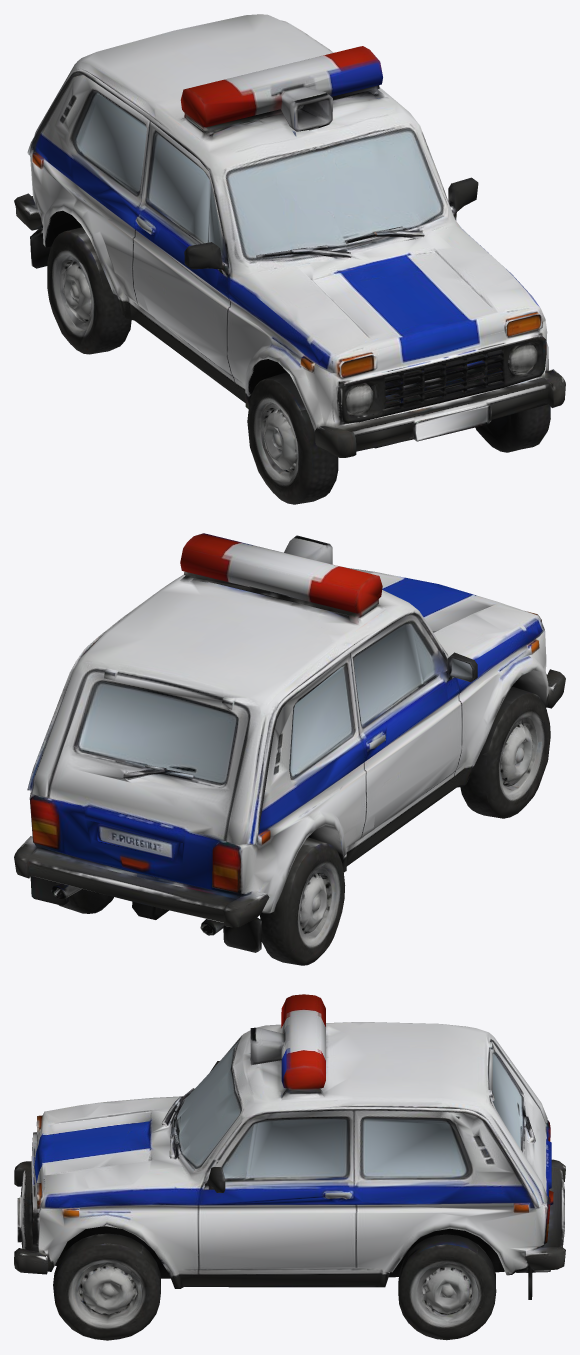
File: niva-gai.glb
3 renders of one model, top to bottom at view 1: azimuth 30°, elevation 25°; view 2: azimuth 150°, elevation 25°; view 3: azimuth 270°, elevation 25°, orthographic. The views are drawn at different scales.
Parts seen in each view (by area): view 1: Body, Glass, Wheel_RR, Wheel_FR, BeaconBlue, Wheel_FL, BeaconRed; view 2: Body, Glass, Wheel_RR, Wheel_FR, Wheel_RL, BeaconRed; view 3: Body, Glass, Wheel_RL, Wheel_FL, BeaconRed.
Part boxes in pixels (x1=…): Body: x1=14, y1=14, x2=565, y2=504; Glass: x1=31, y1=72, x2=539, y2=358; Wheel_RR: x1=47, y1=238, x2=131, y2=354; Wheel_FR: x1=247, y1=384, x2=307, y2=504; BeaconBlue: x1=303, y1=62, x2=382, y2=96; Wheel_FL: x1=475, y1=411, x2=549, y2=452; BeaconRed: x1=180, y1=89, x2=281, y2=127; Body: x1=14, y1=533, x2=565, y2=952; Glass: x1=32, y1=615, x2=539, y2=829; Wheel_RR: x1=260, y1=850, x2=345, y2=965; Wheel_FR: x1=460, y1=698, x2=550, y2=818; Wheel_RL: x1=59, y1=889, x2=113, y2=913; BeaconRed: x1=356, y1=575, x2=382, y2=613; Body: x1=14, y1=994, x2=565, y2=1328; Glass: x1=46, y1=1041, x2=542, y2=1203; Wheel_RL: x1=389, y1=1228, x2=504, y2=1340; Wheel_FL: x1=54, y1=1226, x2=170, y2=1340; BeaconRed: x1=281, y1=998, x2=325, y2=1088.
Size of the model in its own units: 1.9 by 1.96 by 3.74.
4 materials, 4 textured.
